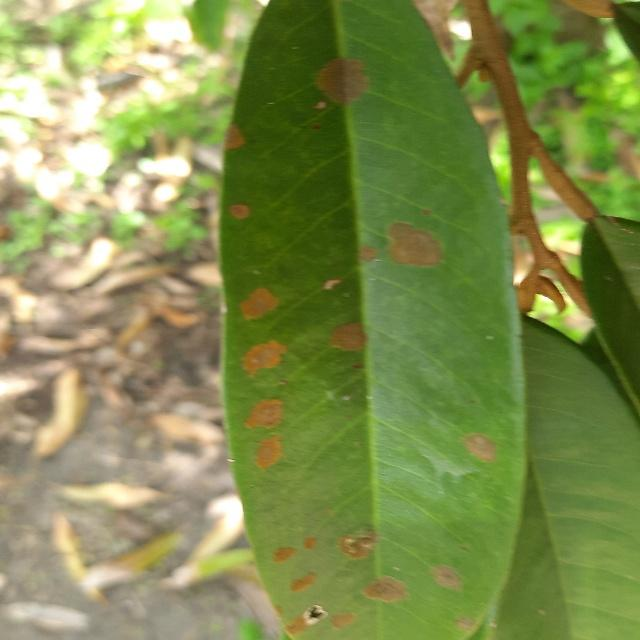Algal Leaf Spot: (207, 0, 534, 640)
